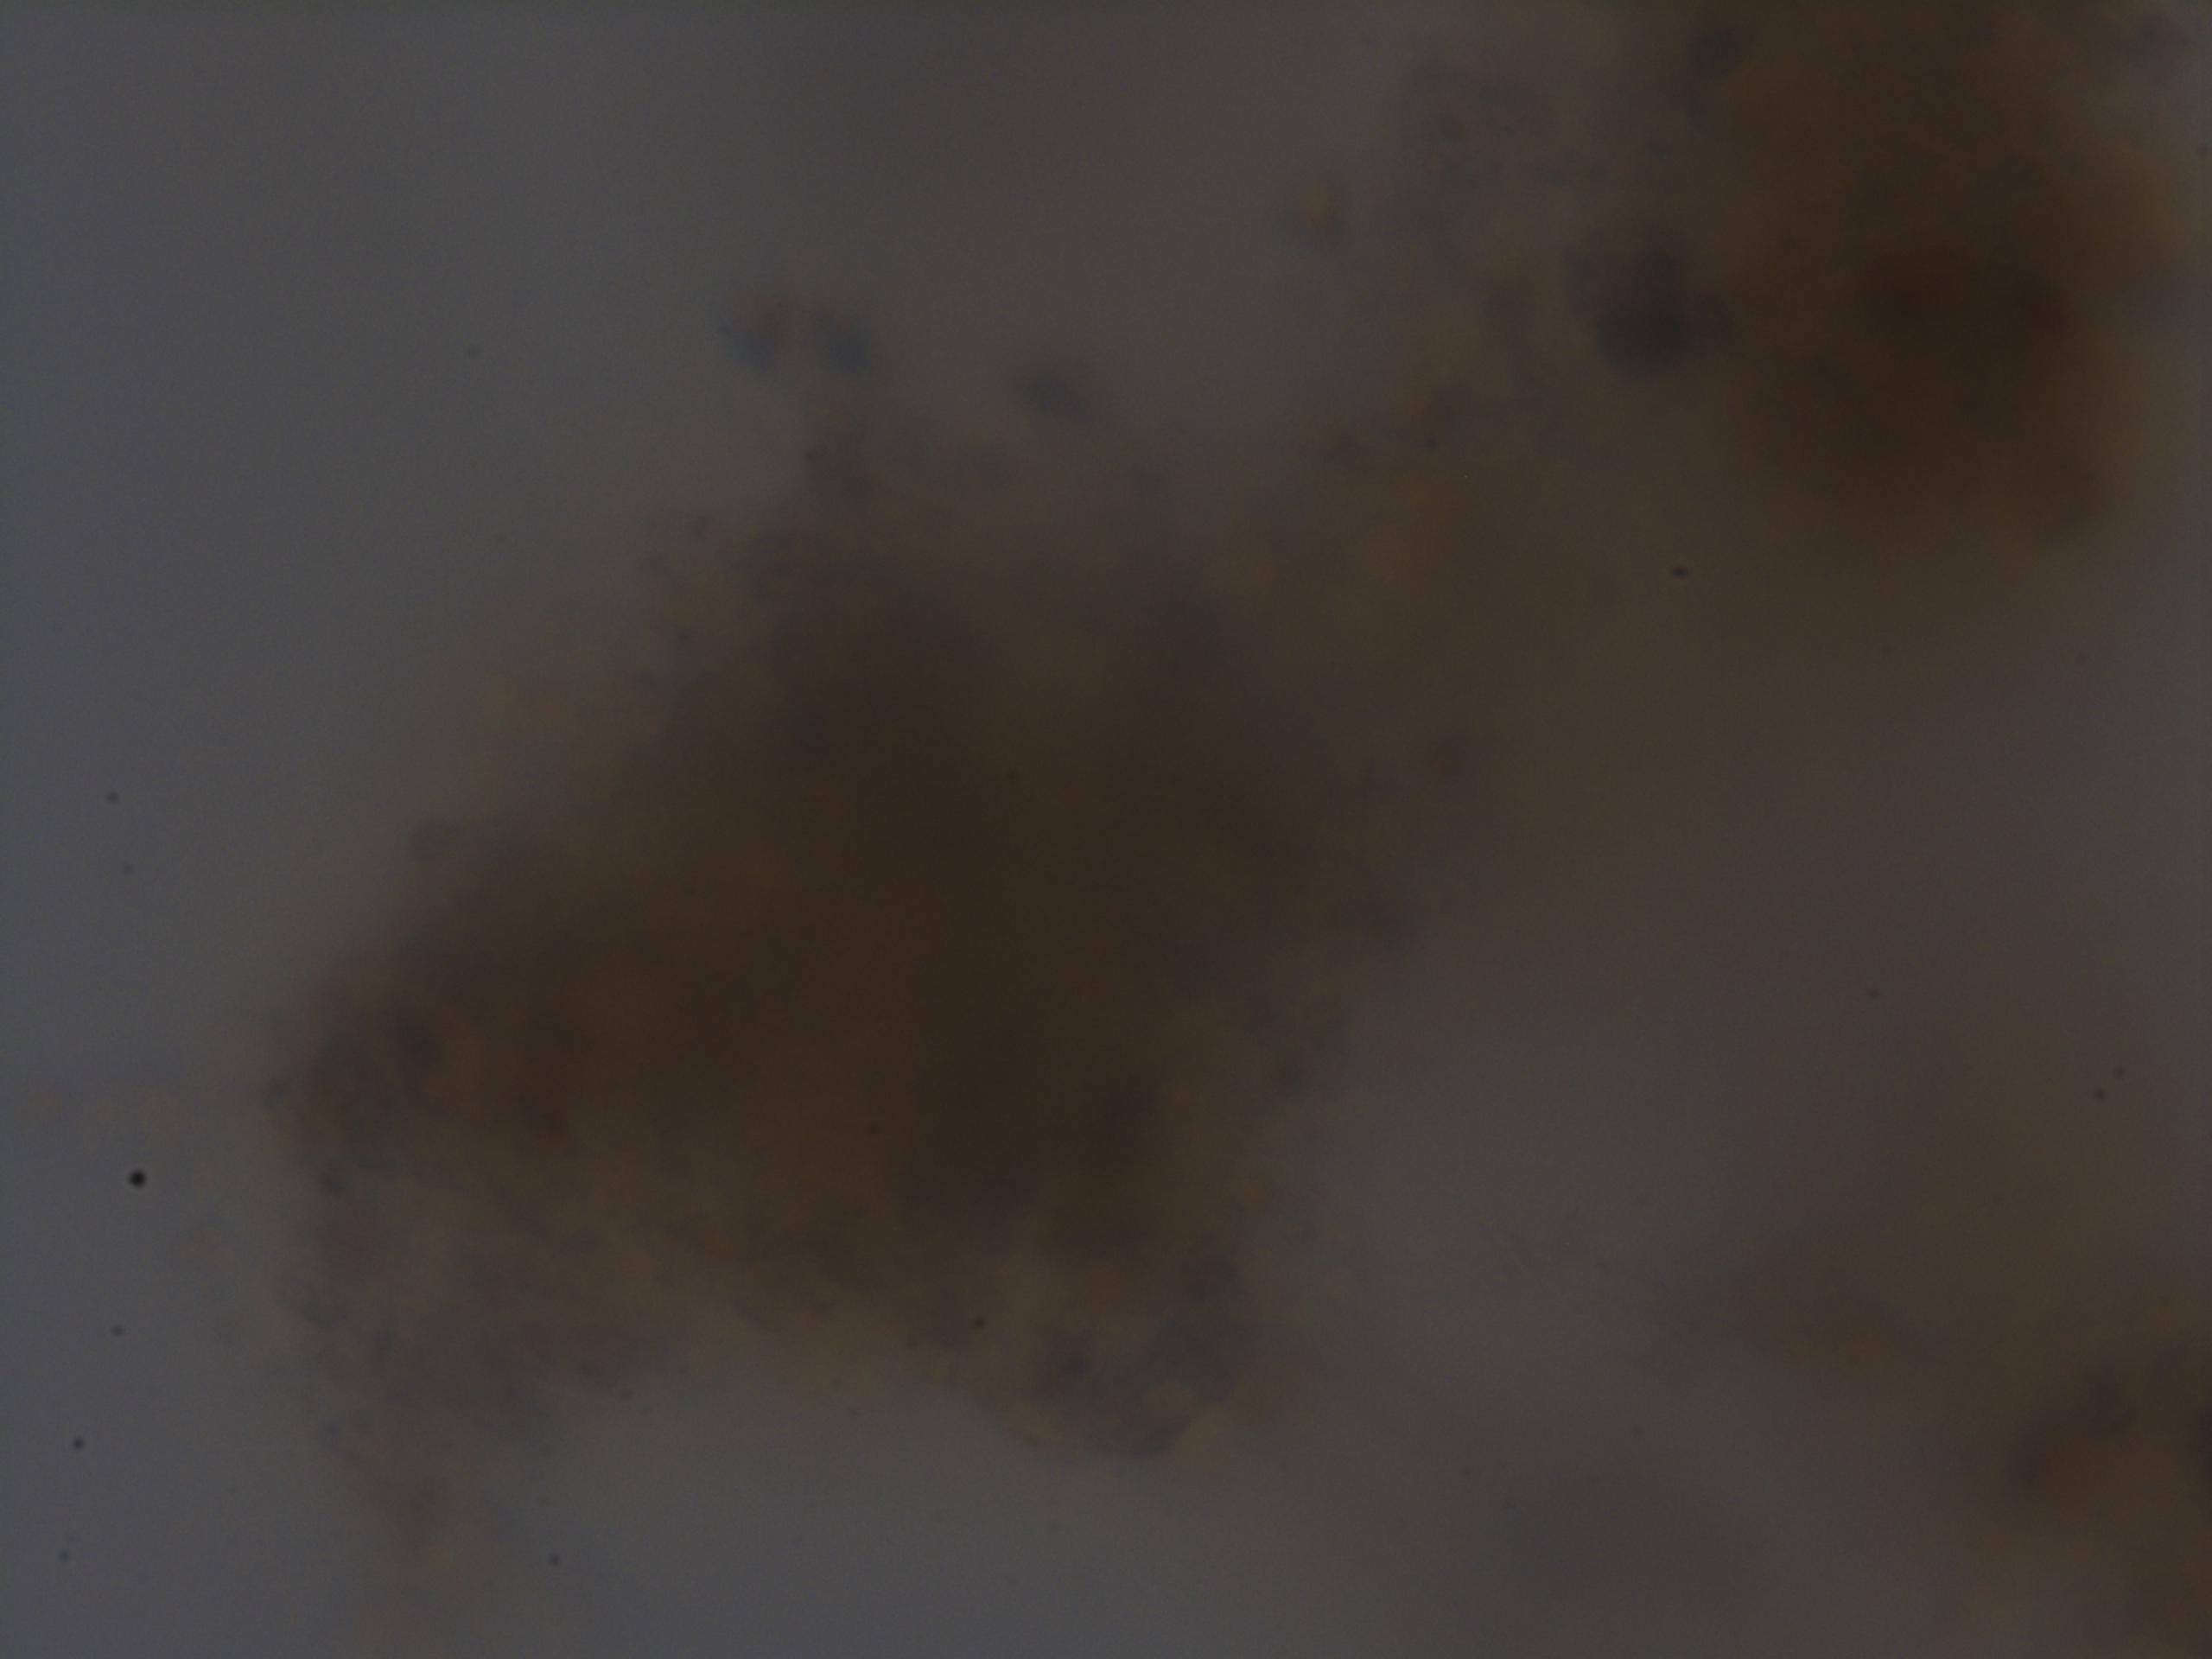spherical_floc: (261, 427, 1467, 1483), (1440, 5, 2212, 565)
